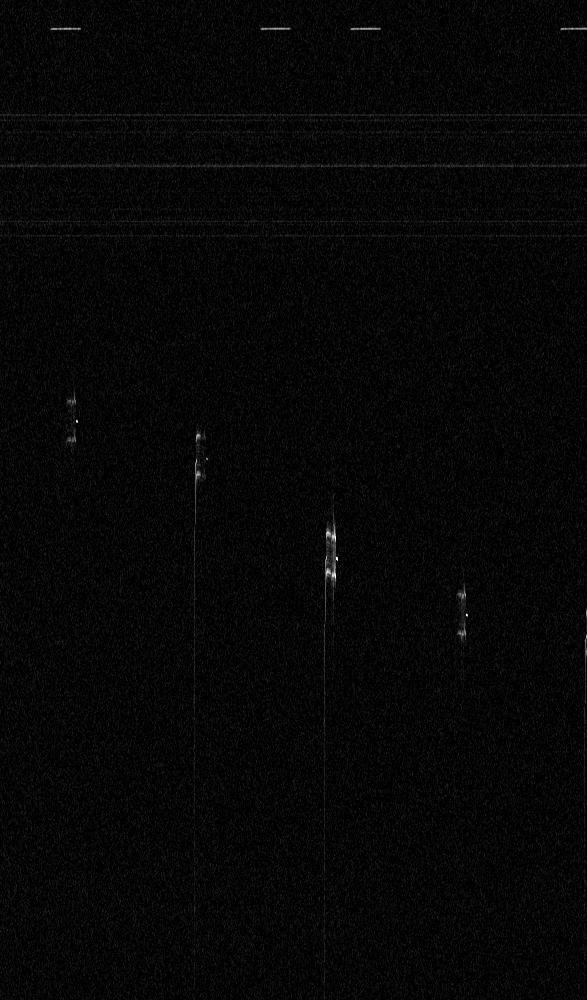signal: (0, 0, 586, 999)
